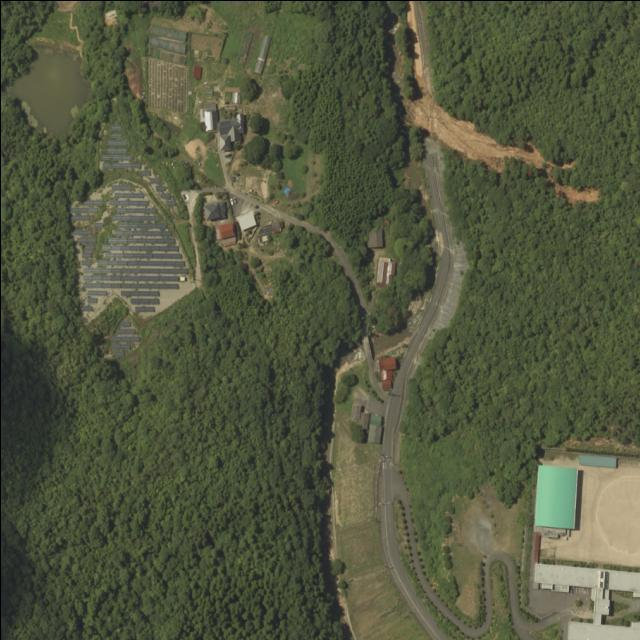landslide: (431, 103, 545, 171), (404, 94, 428, 127), (559, 185, 599, 200)
